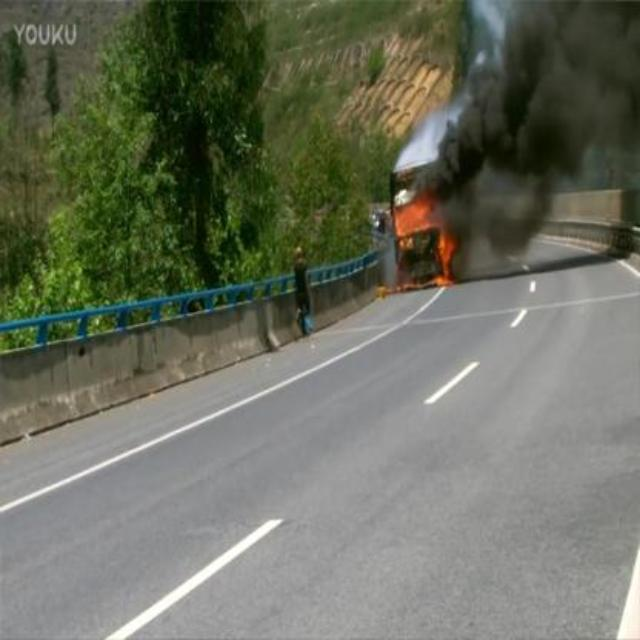Fire: (392, 190, 452, 292)
Smoke: (470, 14, 640, 228)
